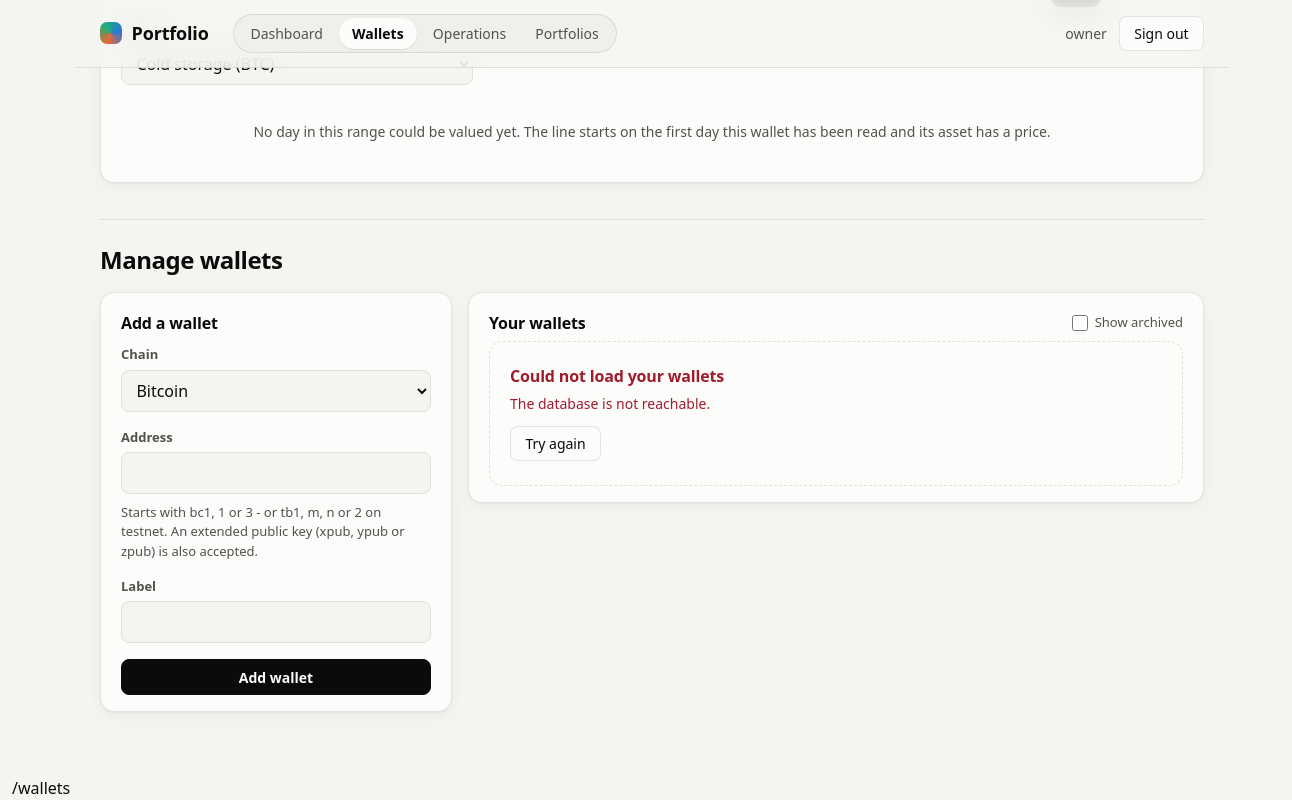
Test: WalletsPage: states › a failed list load shows the reason and a retry, not an empty list
(page scrolled)
Expected: the message shows "Could not load your wallets", [510, 365, 724, 387]
Expected: the message shows "The database is not reachable.", [510, 394, 710, 413]
Click the button "Try again": [556, 444] box [510, 426, 601, 462]
(page scrolled)
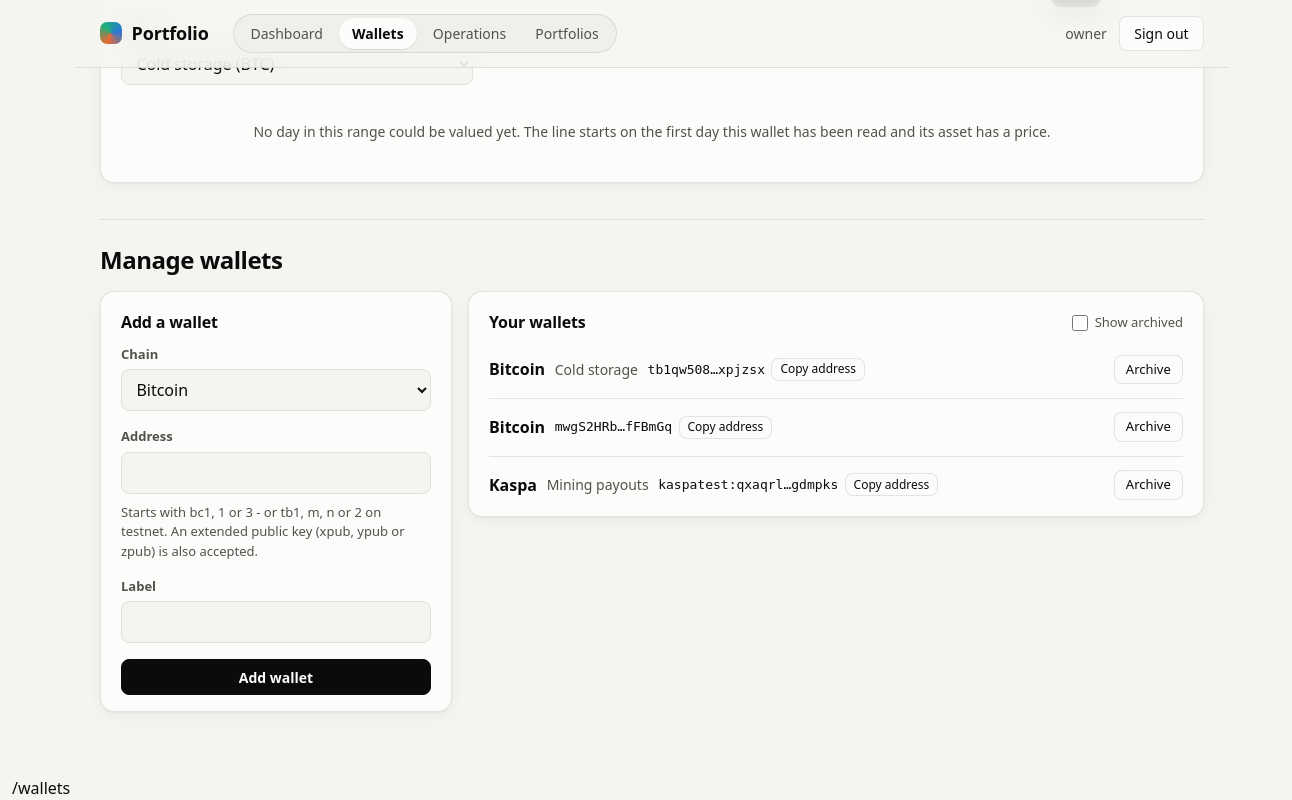
Expected: the list item "Bitcoin Cold storage tb1qw508…xpjzsx Copy address Archive" is shown, [489, 341, 1183, 399]
Expected: the message "Could not load your wallets The database is not reachable. Try again" is gone
